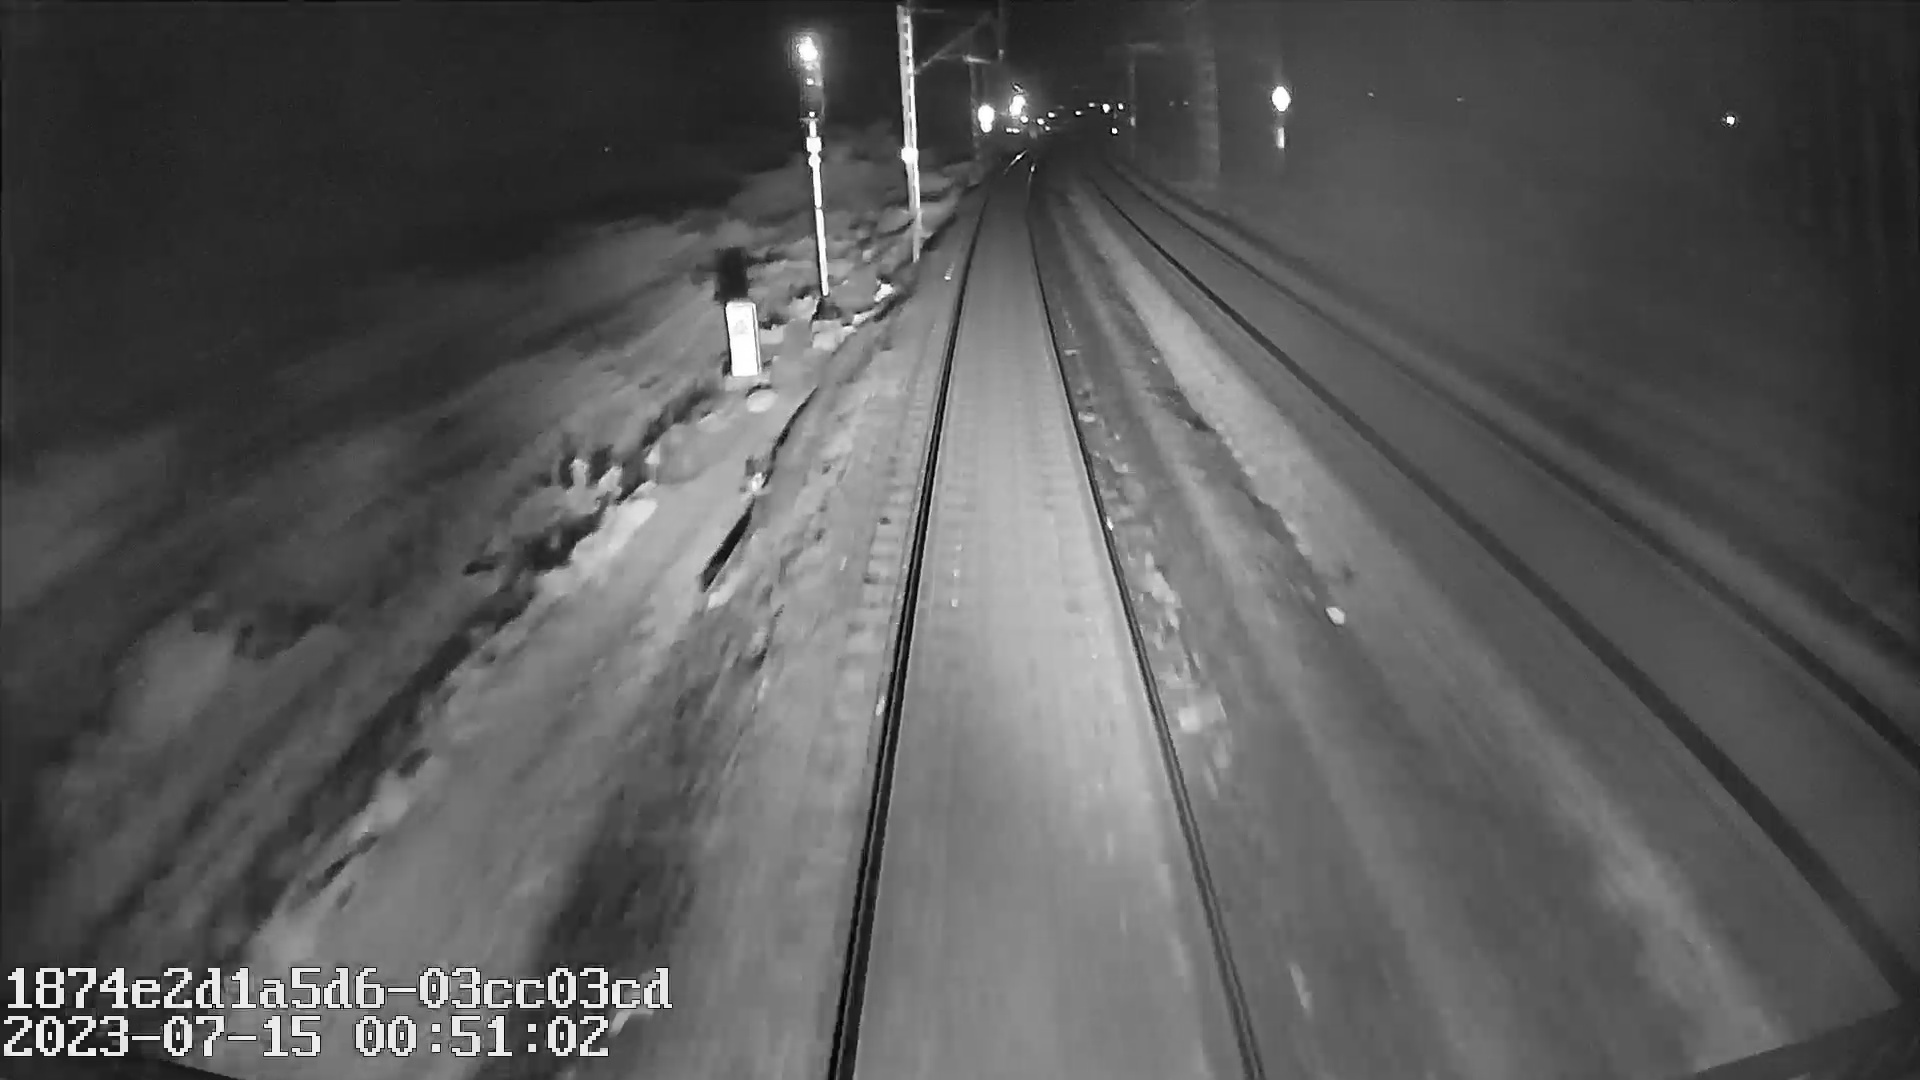track1: (846, 194, 1248, 1040)
track2: (1114, 202, 1908, 882)
